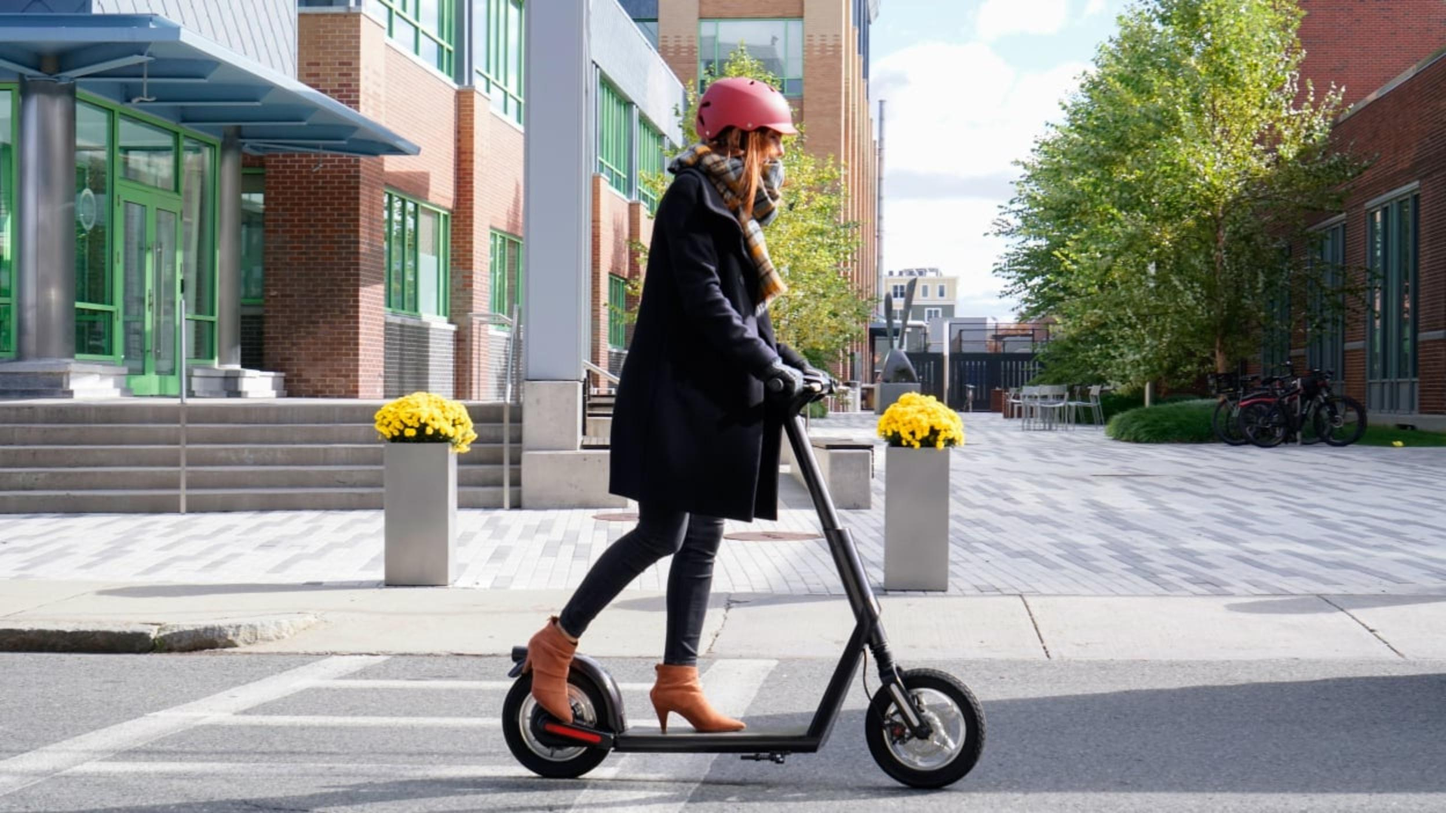helmet: (683, 62, 803, 196)
human: (516, 62, 841, 726)
kickboard: (502, 665, 990, 783)
